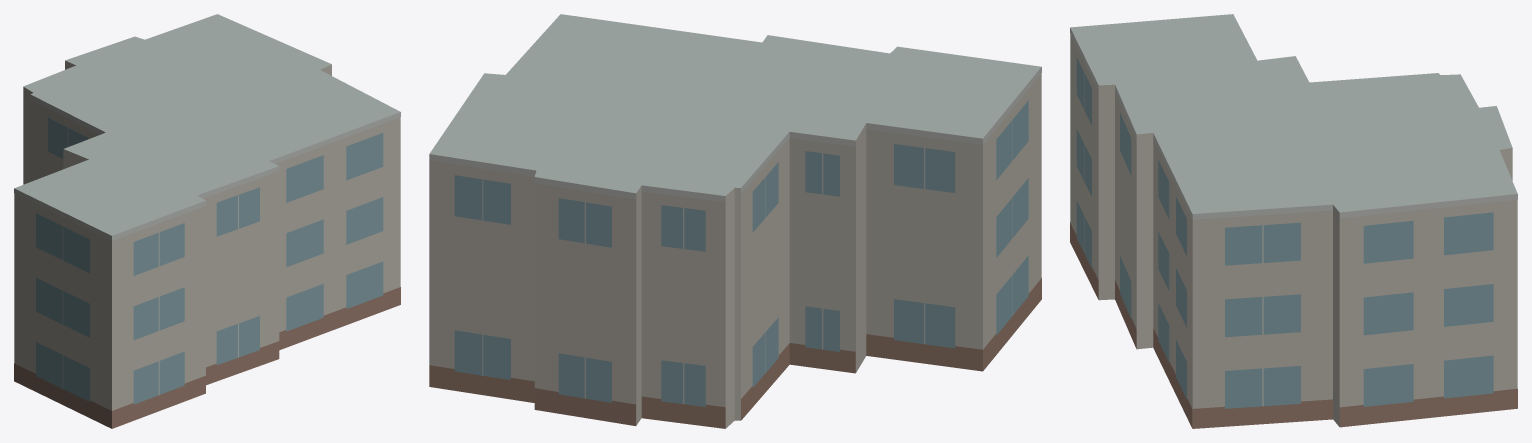
Rendered from survey-upis-32466920.glb.
3 views of the same model, side by side, from view 1: azimuth 30°, elevation 25°; view 2: azimuth 150°, elevation 25°; view 3: azimuth 270°, elevation 25° (orthographic). The views are drawn at different scales.
Parts seen in each view (by area): view 1: survey-upis-32466920.tmp; view 2: survey-upis-32466920.tmp; view 3: survey-upis-32466920.tmp.
Part boxes in pixels (left/top/right/bottom): survey-upis-32466920.tmp: left=14, top=14, right=400, bottom=428; survey-upis-32466920.tmp: left=429, top=14, right=1041, bottom=428; survey-upis-32466920.tmp: left=1070, top=14, right=1517, bottom=428.
Size of the model in its own units: 18.29 by 9.15 by 17.29.
